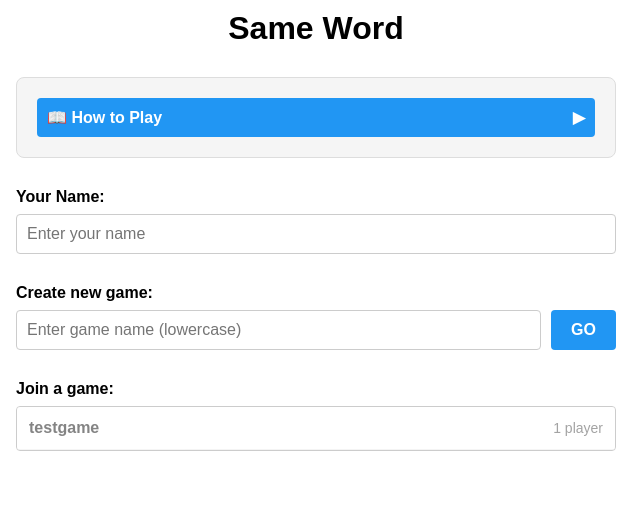
Home Page › Join Game › validates that player name is required
expect the text "testgame" is shown: met, box [29, 419, 99, 437]
Click the button "testgame 1 player": (64, 428) [17, 407, 615, 450]
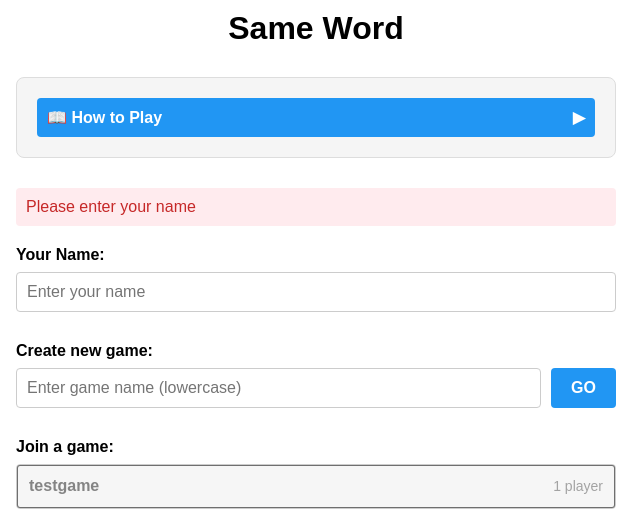
expect the text "Please enter your name" is shown: met, box [16, 188, 616, 226]
